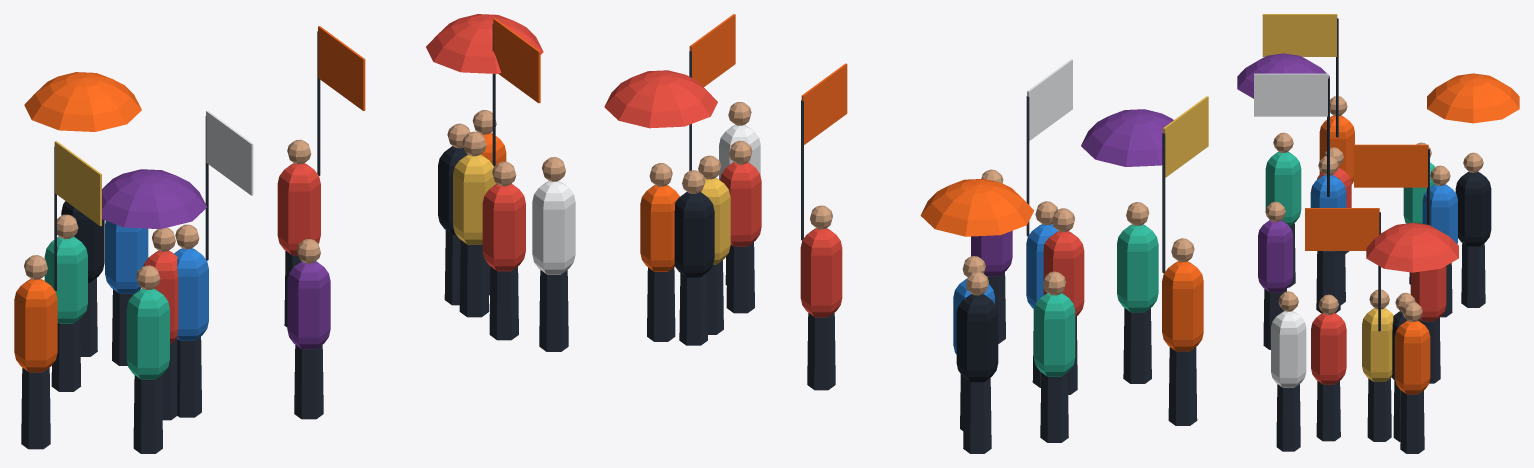
File: spectators_c.glb
The picture shows the model from 3 angles, left to right: view 1: azimuth 30°, elevation 25°; view 2: azimuth 150°, elevation 25°; view 3: azimuth 270°, elevation 25°; orthographic projection. The views are drawn at different scales.
Visible parts, largest first — view 1: spectators; view 2: spectators; view 3: spectators.
Part boxes in pixels (left/top/right/bottom): spectators: left=14, top=14, right=575, bottom=453; spectators: left=604, top=14, right=1208, bottom=453; spectators: left=1237, top=14, right=1519, bottom=453.
Size of the model in its own units: 5.71 by 2.89 by 3.03.
